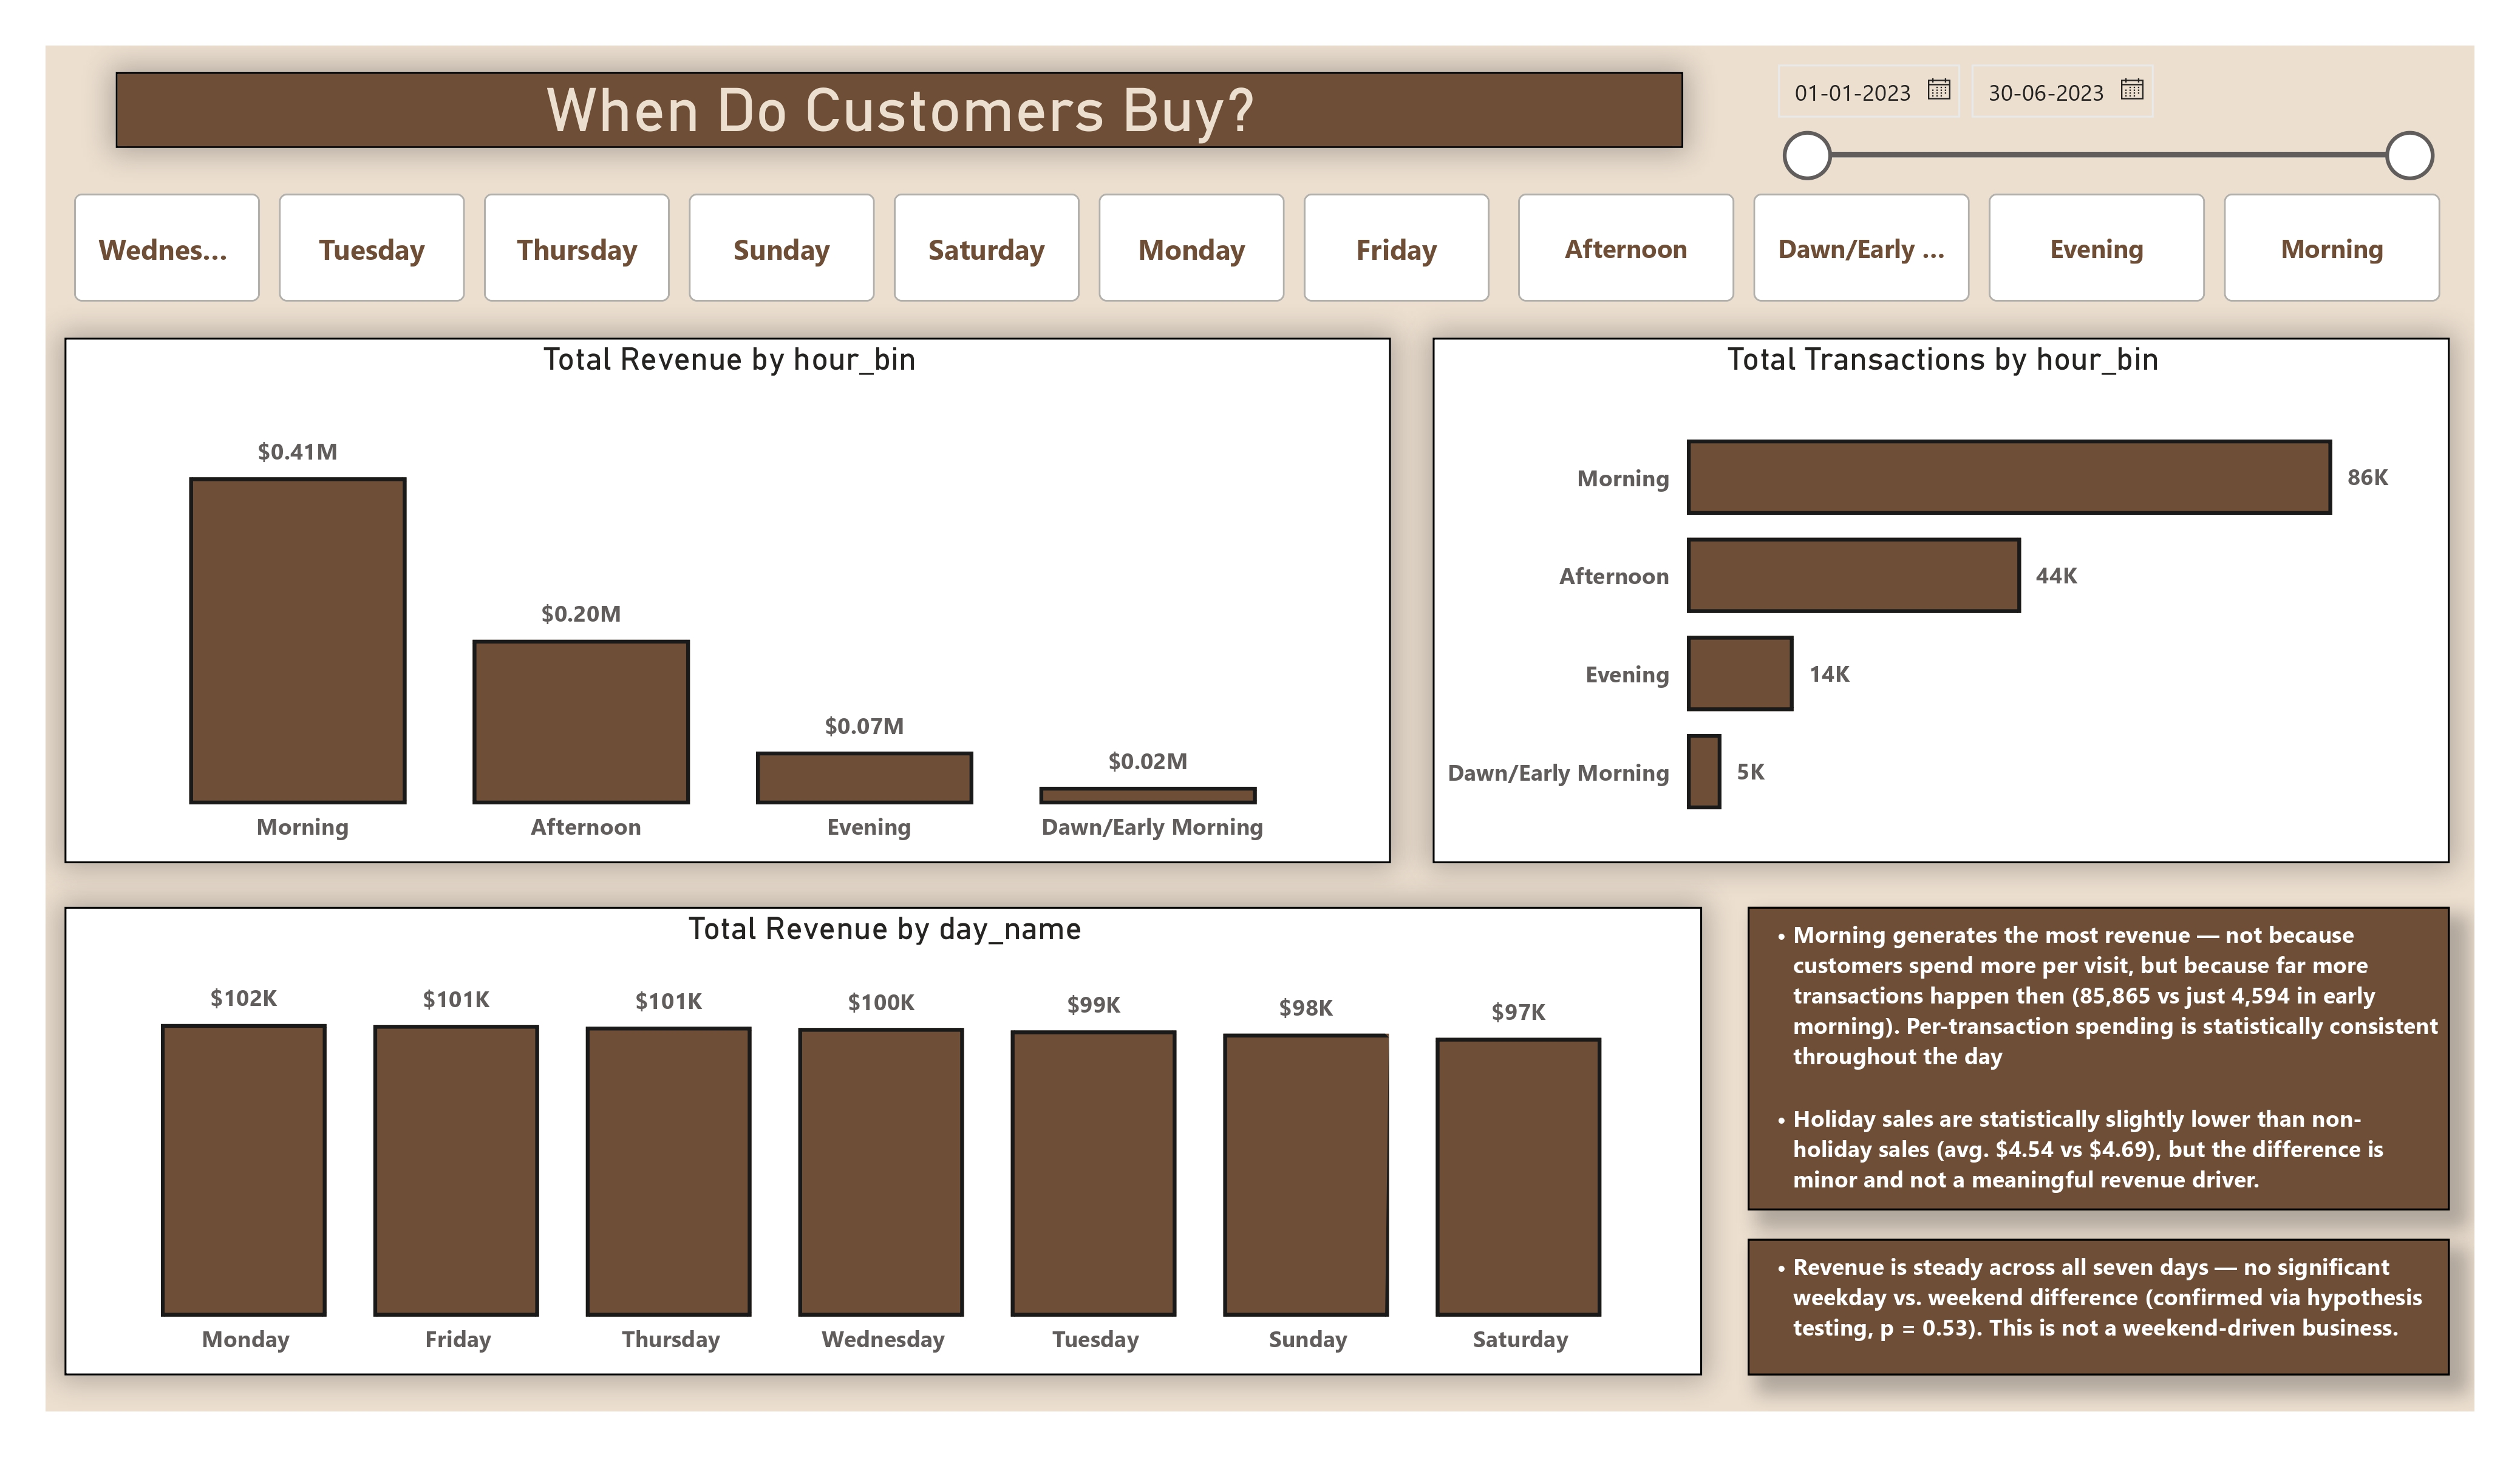

Layout of this report page (visuals, bound fields, positions):
{"tool":"powerbi","page":{"name":"Time patterns","canvas":[1280,720],"ordinal":1},"visuals":[{"type":"clusteredColumnChart","fields":{"Y":["_fact_sales.Total Revenue"],"Category":["dim_time.hour_bin"]},"box":[10,154.3,698.6,277.1],"z":0},{"type":"clusteredBarChart","fields":{"Category":["dim_time.hour_bin"],"Y":["_fact_sales.Total Transactions"]},"box":[731.4,154.3,535.7,277.1],"z":1000},{"type":"clusteredColumnChart","fields":{"Y":["_fact_sales.Total Revenue"],"Category":["dim_date_new.day_name"]},"box":[10,454.3,862.9,247.1],"z":2000},{"type":"textbox","box":[897.1,454.3,370,160],"z":3000},{"type":"textbox","box":[897.1,628.6,370,72.9],"z":4000},{"type":"textbox","title":"When Do Customers Buy?","box":[37.1,14.3,825.7,40],"z":5001},{"type":"slicer","fields":{"Values":["dim_date_new.transaction_date"]},"box":[900,0,367.1,77.1],"z":5002},{"type":"advancedSlicerVisual","fields":{"Values":["dim_date_new.day_name"]},"box":[10,72.9,761.4,67.1],"z":5003},{"type":"advancedSlicerVisual","fields":{"Values":["dim_time.hour_bin"]},"box":[771.4,72.9,495.7,67.1],"z":5004}]}

Visuals, with their boxes on the page's 1280x720 design canvas (x1, y1, x2, y2). These are canvas units, not pixel positions in the 2520x1457 screenshot, which may show the page scaled, cropped or inside an application window:
clusteredColumnChart - _fact_sales.Total Revenue x dim_time.hour_bin: [10, 154, 709, 431]
clusteredBarChart - dim_time.hour_bin x _fact_sales.Total Transactions: [731, 154, 1267, 431]
clusteredColumnChart - _fact_sales.Total Revenue x dim_date_new.day_name: [10, 454, 873, 701]
textbox: [897, 454, 1267, 614]
textbox: [897, 629, 1267, 702]
"When Do Customers Buy?" textbox: [37, 14, 863, 54]
slicer - dim_date_new.transaction_date: [900, 0, 1267, 77]
advancedSlicerVisual - dim_date_new.day_name: [10, 73, 771, 140]
advancedSlicerVisual - dim_time.hour_bin: [771, 73, 1267, 140]
